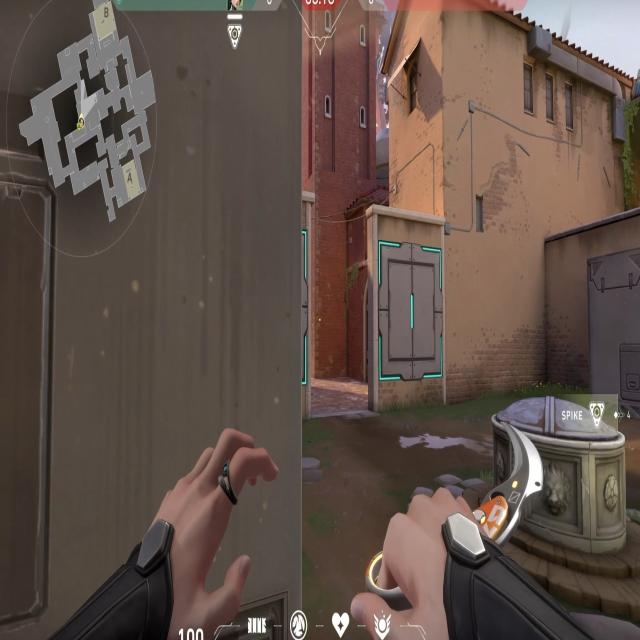Mid_Wall: (378, 232, 448, 399)
